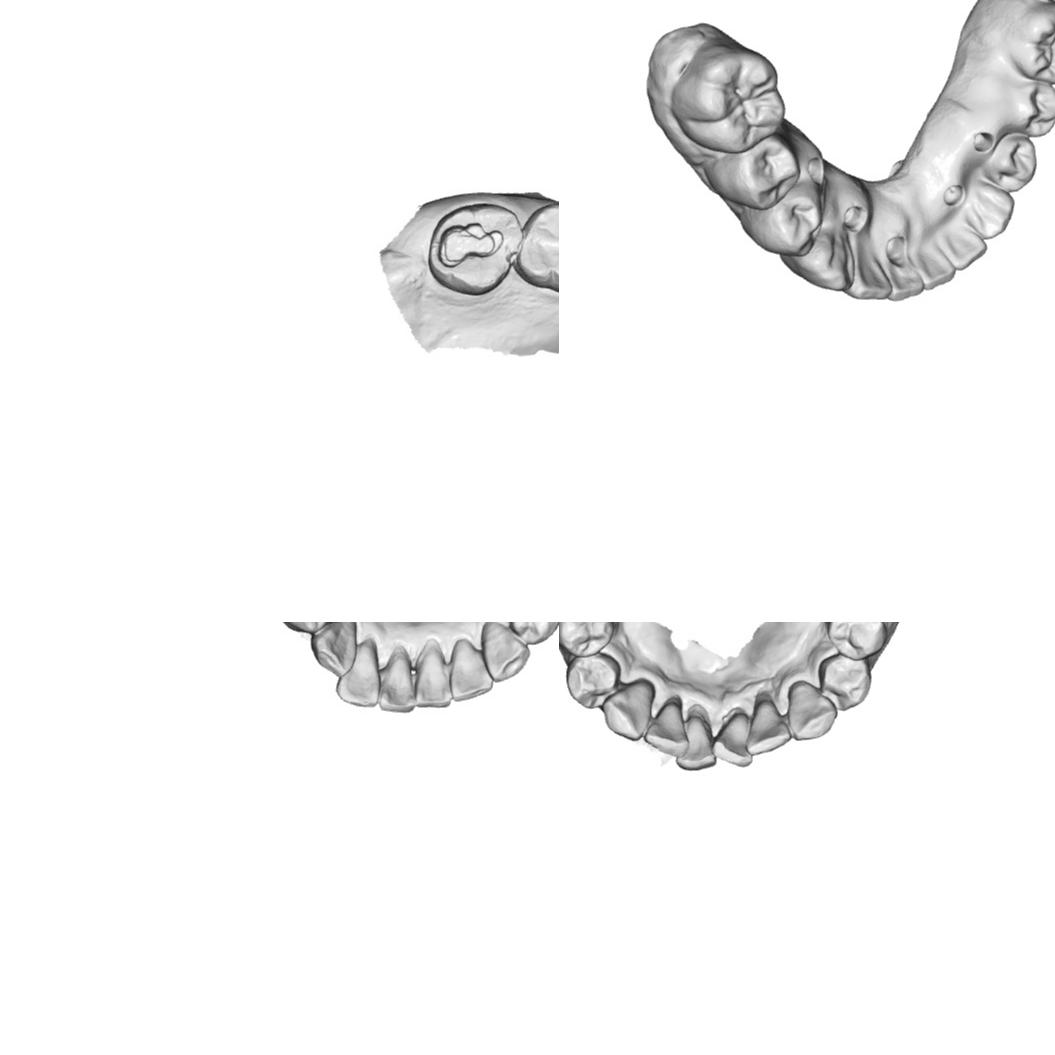canine: (793, 227, 852, 290), (600, 678, 656, 742), (786, 678, 838, 740), (479, 622, 531, 683), (961, 184, 1016, 241), (308, 622, 358, 679)
incisor: (334, 637, 382, 708), (643, 696, 690, 760), (448, 640, 494, 704), (846, 243, 893, 301), (744, 698, 792, 754), (674, 714, 718, 772), (377, 650, 415, 715), (414, 646, 453, 709), (711, 711, 753, 768), (938, 230, 989, 271), (918, 242, 960, 289), (885, 257, 926, 300)
inlay: (434, 218, 506, 271)
molar: (670, 44, 785, 154), (516, 199, 559, 293), (1010, 2, 1055, 83)
premolar: (730, 138, 798, 207), (759, 186, 822, 254), (564, 650, 622, 710), (816, 652, 872, 712), (1005, 73, 1055, 137), (988, 130, 1038, 191), (826, 622, 889, 662), (559, 622, 615, 657), (507, 622, 559, 645)
